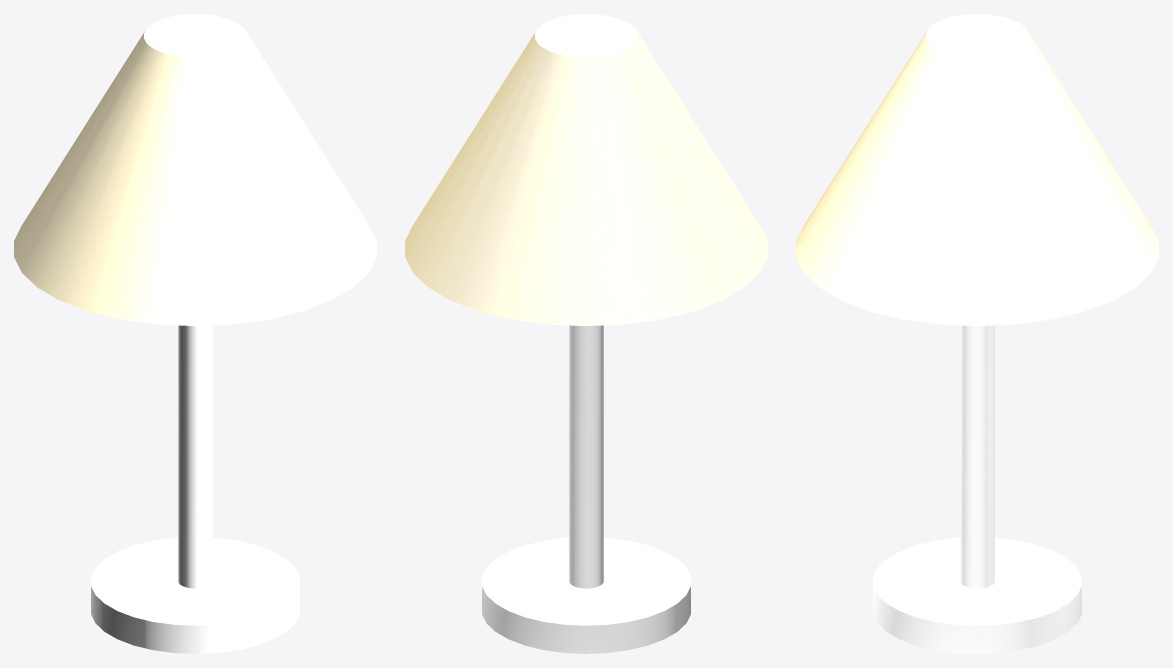
File: lamp.gltf
The picture shows the model from 3 angles, left to right: view 1: azimuth 30°, elevation 25°; view 2: azimuth 150°, elevation 25°; view 3: azimuth 270°, elevation 25°; orthographic projection.
Parts seen in each view (by area): view 1: Cylinder; view 2: Cylinder; view 3: Cylinder.
Boxes of the visible parts, x1=… form: Cylinder: x1=14, y1=14, x2=376, y2=653; Cylinder: x1=405, y1=14, x2=767, y2=653; Cylinder: x1=796, y1=14, x2=1158, y2=653.
Size of the model in its own units: 166 by 287 by 165.
